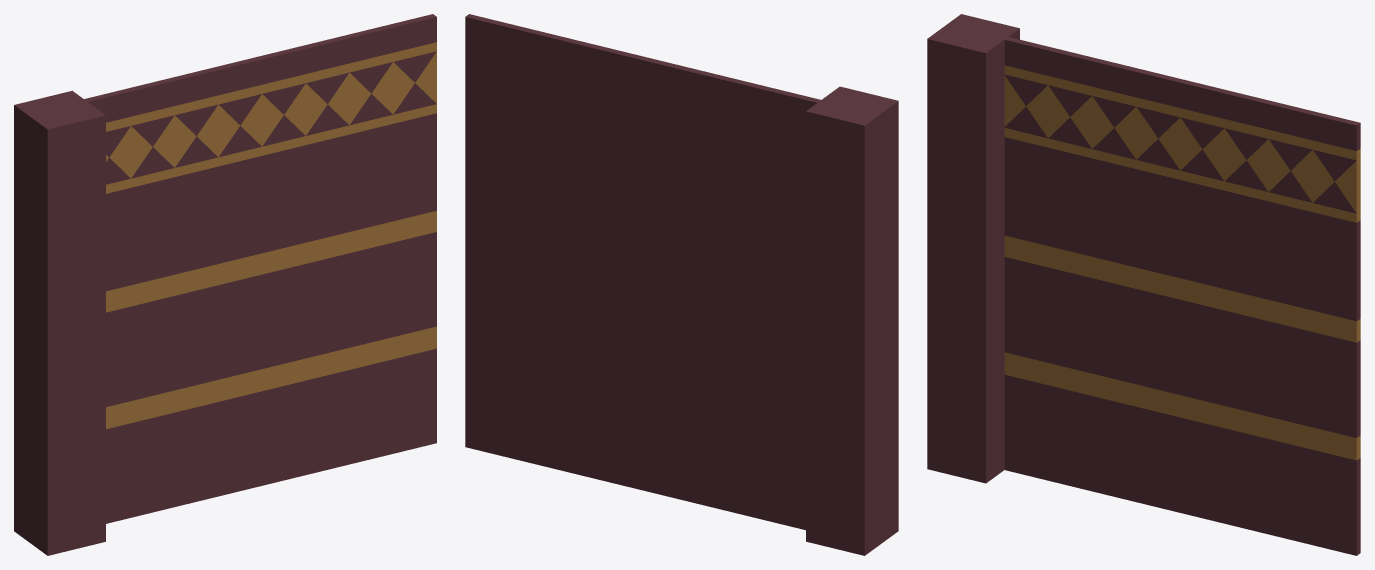
Rendered from SM_Wall_R_3x3m_Empire.fbx.
3 renders of one model, left to right at view 1: azimuth 30°, elevation 25°; view 2: azimuth 150°, elevation 25°; view 3: azimuth 330°, elevation 25°, orthographic.
Visible parts, largest first — view 1: SM_Wall_R_3x3m_Empire; view 2: SM_Wall_R_3x3m_Empire; view 3: SM_Wall_R_3x3m_Empire.
Part boxes in pixels (box(x1,y1,x2,y2)): SM_Wall_R_3x3m_Empire: box(14, 14, 436, 555); SM_Wall_R_3x3m_Empire: box(465, 14, 898, 555); SM_Wall_R_3x3m_Empire: box(927, 14, 1360, 555).
Size of the model in its own units: 3 by 3 by 0.43.
